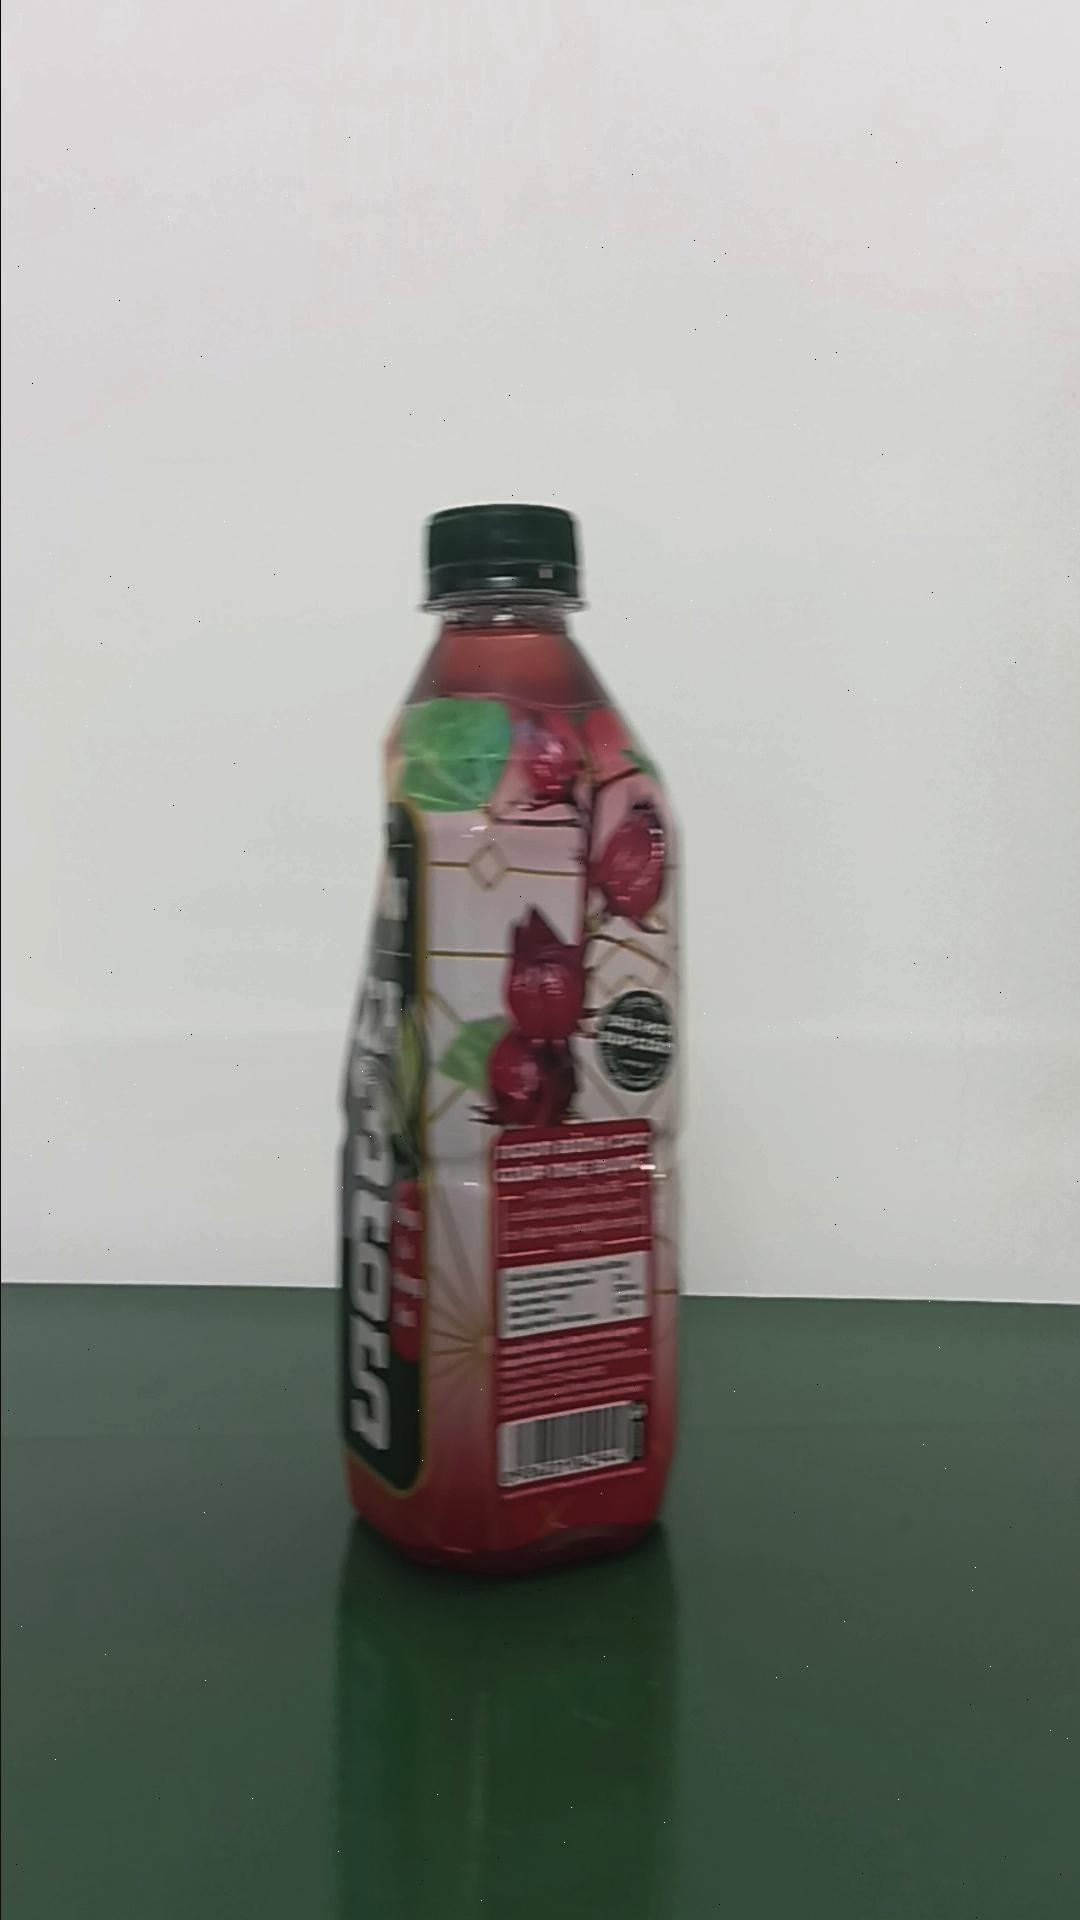loi meo sp: (335, 500, 687, 1576)
